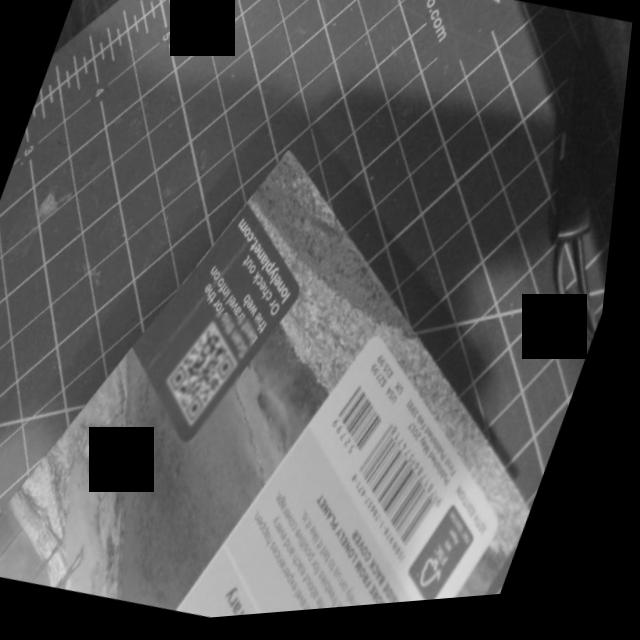QR_CODE: (152, 306, 269, 447)
